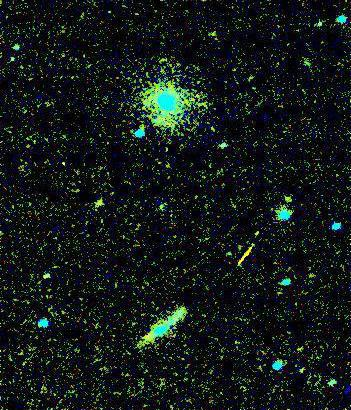star: (274, 182, 304, 212)
